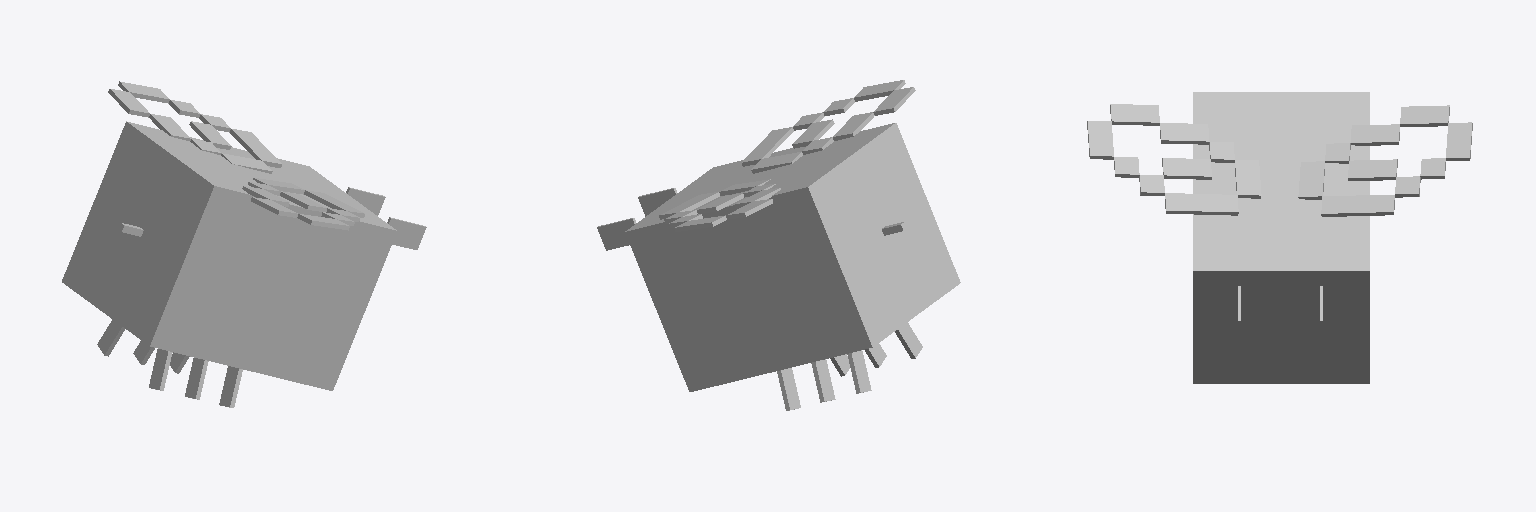
The model's file is Bee_ (196).obj.
3 renders of one model, left to right at view 1: azimuth 30°, elevation 25°; view 2: azimuth 150°, elevation 25°; view 3: azimuth 270°, elevation 25°, orthographic.
Parts seen in each view (by area): view 1: b_Bee_MAT_0, r_Bee_MAT_0, l_Bee_MAT_0; view 2: b_Bee_MAT_0, l_Bee_MAT_0, r_Bee_MAT_0; view 3: b_Bee_MAT_0, l_Bee_MAT_0, r_Bee_MAT_0.
Boxes of the visible parts, x1=… form: b_Bee_MAT_0: x1=62, y1=121, x2=426, y2=407; r_Bee_MAT_0: x1=108, y1=81, x2=281, y2=173; l_Bee_MAT_0: x1=242, y1=178, x2=364, y2=230; b_Bee_MAT_0: x1=597, y1=123, x2=960, y2=410; l_Bee_MAT_0: x1=742, y1=80, x2=915, y2=173; r_Bee_MAT_0: x1=659, y1=179, x2=780, y2=231; b_Bee_MAT_0: x1=1193, y1=92, x2=1369, y2=383; l_Bee_MAT_0: x1=1087, y1=104, x2=1261, y2=215; r_Bee_MAT_0: x1=1298, y1=105, x2=1472, y2=216.
Bounding box in the file's own units: 0.3076 × 0.2407 × 0.3435.